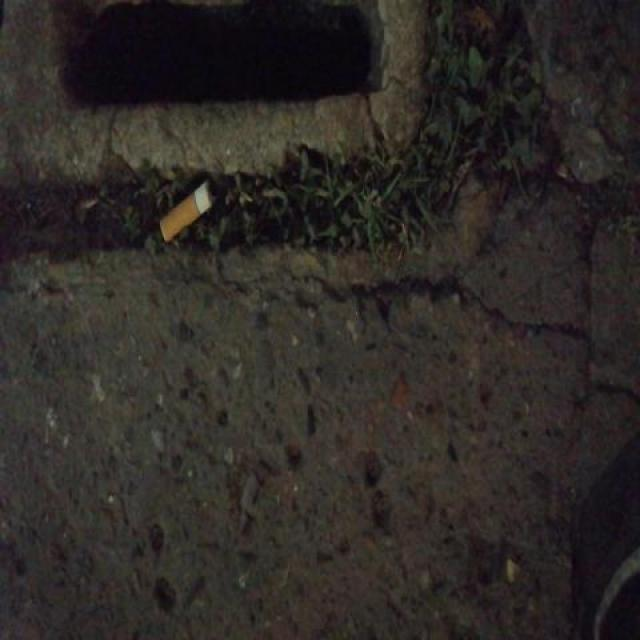non-organic waste: (154, 178, 218, 247)
